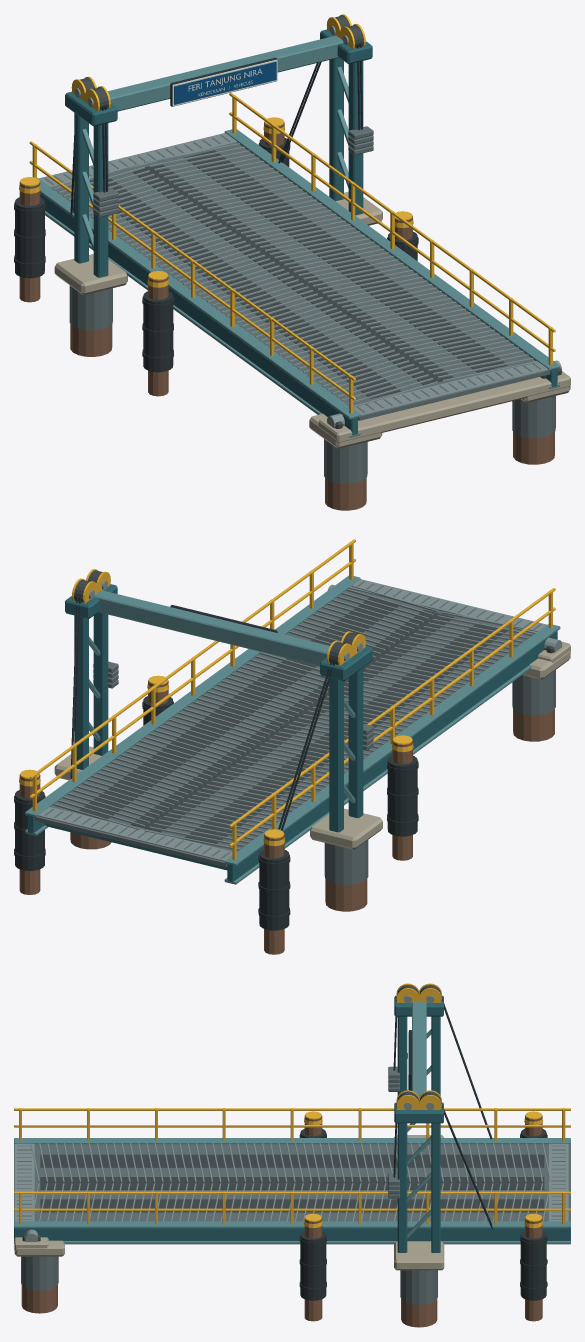
3 views of the same model, one above another, from view 1: azimuth 30°, elevation 25°; view 2: azimuth 150°, elevation 25°; view 3: azimuth 270°, elevation 25° (orthographic). The views are drawn at different scales.
Parts seen in each view (by area): view 1: Traction chevrons, Wheel tracks, Steel riding plate, Girder flanges, Hoist columns, Pedestrian rails, Dolphin jackets, Elastomer fenders, Quayside sill, Lip apron, Linkspan girders, Portal transom (+15 smaller); view 2: Traction chevrons, Steel riding plate, Wheel tracks, Girder flanges, Hoist columns, Elastomer fenders, Portal transom, Pedestrian rails, Lip apron, Linkspan girders, Dolphin jackets, Handrail standards (+13 smaller); view 3: Steel riding plate, Wheel tracks, Traction chevrons, Girder flanges, Pedestrian rails, Linkspan girders, Hoist columns, Elastomer fenders, Lip apron, Dolphin jackets, Handrail standards, Bearing cap blocks (+11 smaller).
Boxes of the visible parts, <box> form: Traction chevrons: <box>53,143,538,407</box>; Wheel tracks: <box>89,150,507,398</box>; Steel riding plate: <box>38,133,550,420</box>; Girder flanges: <box>37,129,560,437</box>; Hoist columns: <box>74,57,363,277</box>; Pedestrian rails: <box>29,92,555,400</box>; Dolphin jackets: <box>69,285,555,484</box>; Elastomer fenders: <box>15,138,417,372</box>; Quayside sill: <box>318,371,570,442</box>; Lip apron: <box>39,133,548,415</box>; Linkspan girders: <box>40,193,557,435</box>; Portal transom: <box>108,35,343,111</box>; Traction chevrons: <box>53,585,537,850</box>; Steel riding plate: <box>35,588,534,867</box>; Wheel tracks: <box>79,597,506,843</box>; Girder flanges: <box>25,575,560,884</box>; Hoist columns: <box>74,612,363,832</box>; Elastomer fenders: <box>15,696,417,930</box>; Portal transom: <box>94,590,329,666</box>; Pedestrian rails: <box>29,539,555,846</box>; Lip apron: <box>37,579,546,861</box>; Linkspan girders: <box>27,631,557,881</box>; Dolphin jackets: <box>324,670,555,885</box>; Handrail standards: <box>32,541,552,859</box>; Steel riding plate: <box>14,1144,570,1221</box>; Wheel tracks: <box>40,1154,544,1212</box>; Traction chevrons: <box>30,1143,551,1221</box>; Girder flanges: <box>14,1138,570,1244</box>; Pedestrian rails: <box>14,1108,570,1210</box>; Linkspan girders: <box>14,1228,570,1240</box>; Hoist columns: <box>397,1016,440,1252</box>; Elastomer fenders: <box>300,1128,546,1300</box>; Lip apron: <box>15,1143,568,1221</box>; Dolphin jackets: <box>21,1256,437,1304</box>; Handrail standards: <box>19,1108,565,1224</box>; Bearing cap blocks: <box>14,1135,444,1270</box>.
Bounding box in the file's own units: 8.59 × 7.19 × 16.
